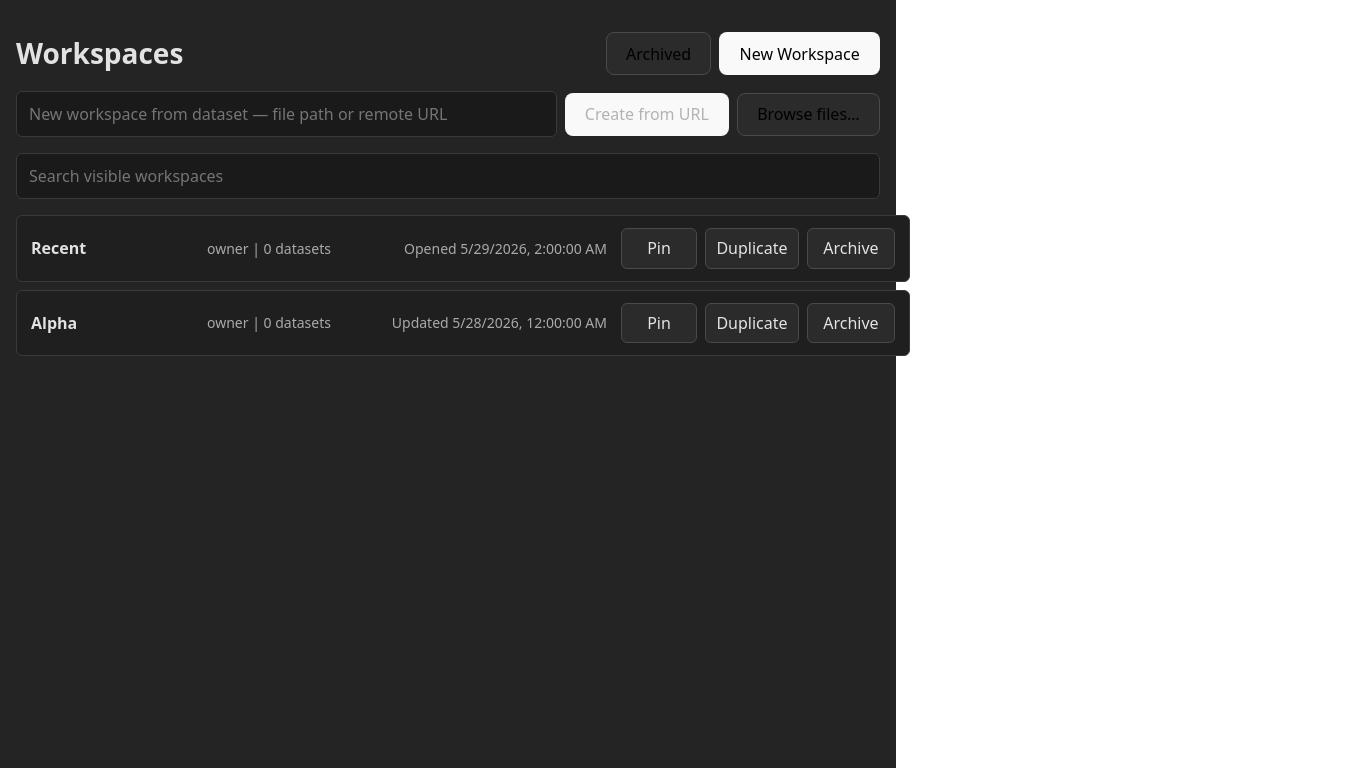
Scenario: WorkspaceDashboard › pins a workspace and moves it into the pinned group
Click the button with aria-label "Pin Alpha" at [659, 323], box [621, 303, 697, 343]
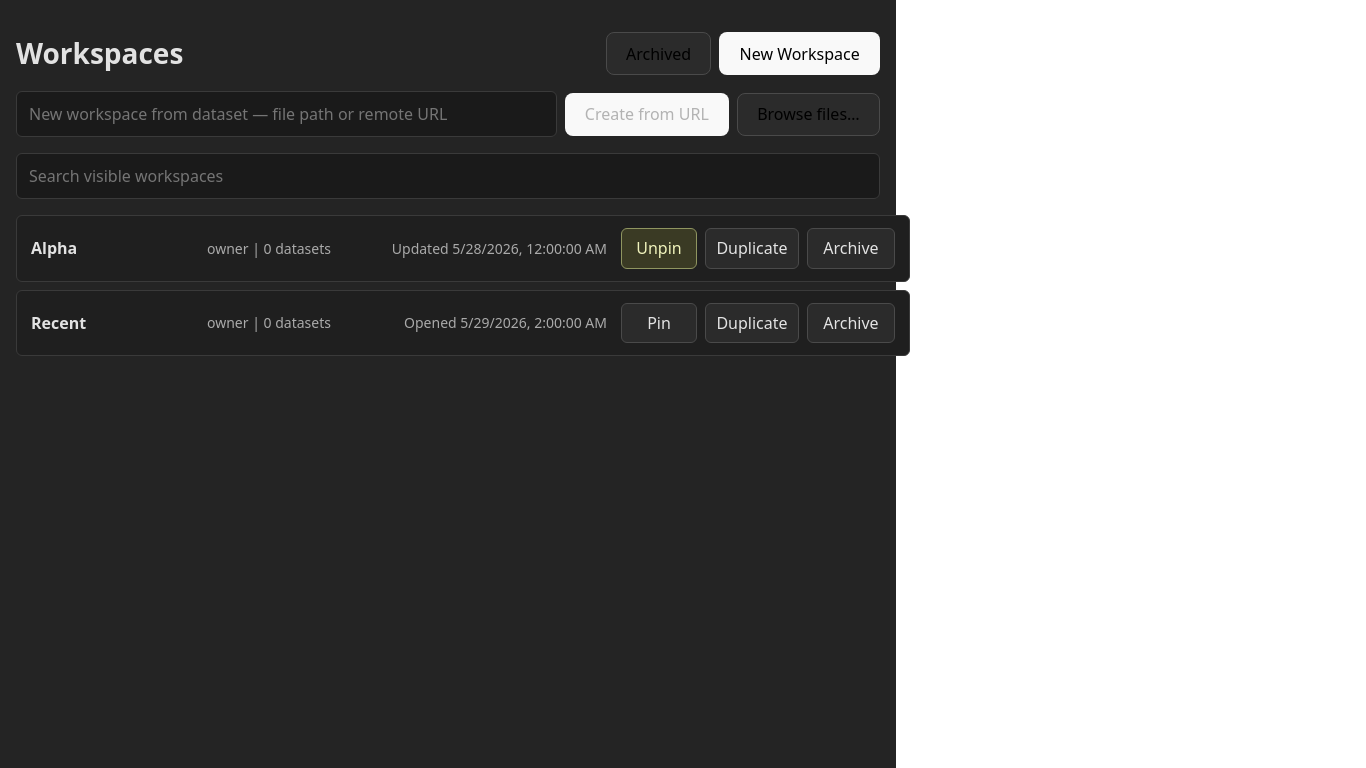
Expected: the button with aria-label "Unpin Alpha" is shown, [621, 228, 697, 269]
